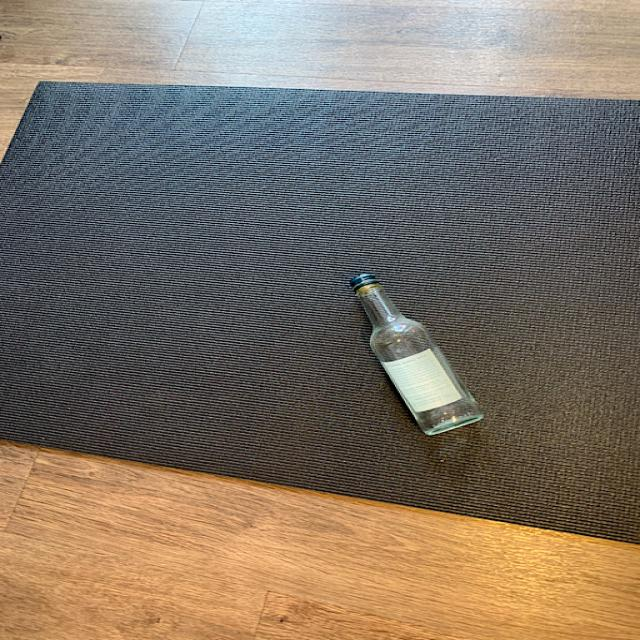litter: (340, 268, 484, 439)
